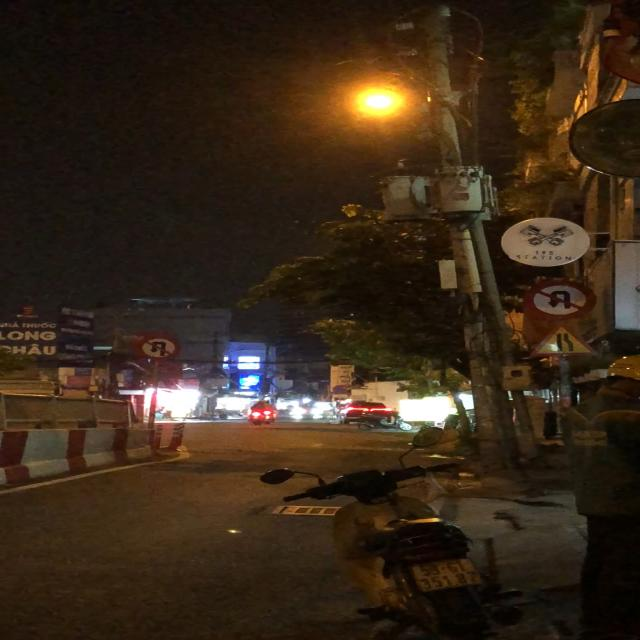Bien bao cam quay dau xe: (521, 276, 596, 319), (136, 332, 182, 359)
Bien bao duong bi thu hep: (522, 321, 607, 358)
